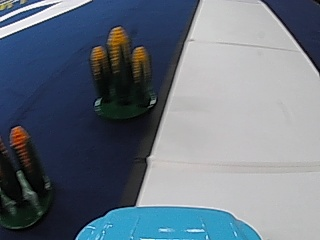corn: (86, 17, 158, 120), (0, 121, 55, 231)
